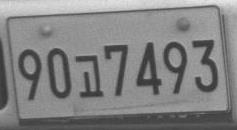0: (45, 47, 72, 98)
3: (191, 38, 219, 93)
4: (135, 41, 162, 95)
7: (103, 43, 129, 96)
9: (162, 40, 188, 94), (16, 47, 41, 100)
고: (75, 53, 103, 98)
